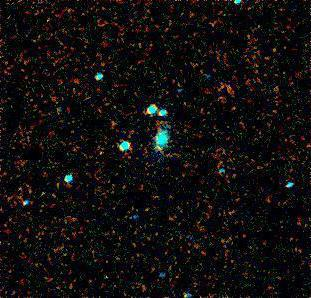star: (144, 135, 174, 165)
